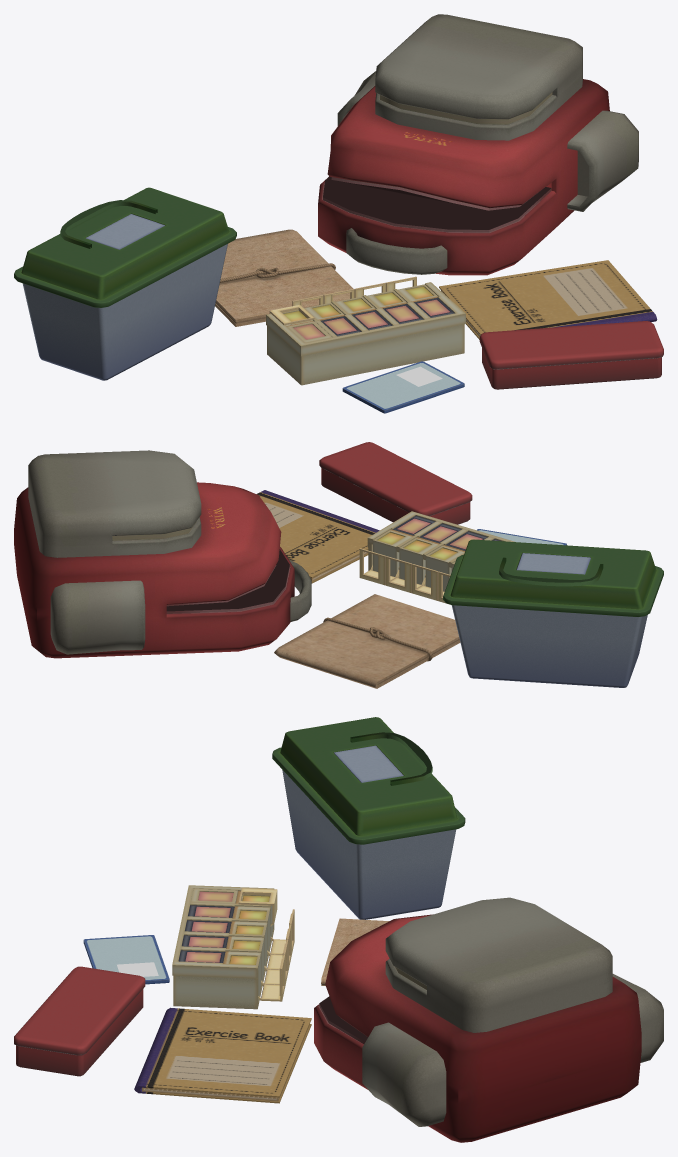
Rendered from UI grouping (1).fbx.
The picture shows the model from 3 angles, top to bottom: view 1: azimuth 30°, elevation 25°; view 2: azimuth 150°, elevation 25°; view 3: azimuth 270°, elevation 25°; orthographic projection. The views are drawn at different scales.
Parts seen in each view (by area): view 1: Bag_open, FishTank, Book_close, pencil_box_close, Map_close, base, frame, ID_card; view 2: Bag_open, FishTank, Map_close, pencil_box_close, Book_close, base (×3), cover (×3), frame, ID_card; view 3: Bag_open, FishTank, Book_close, pencil_box_close, base (×4), frame, ID_card, Map_close.
Part boxes in pixels (x1,y1,x2,y2): Bag_open: (318, 14, 638, 275); FishTank: (14, 187, 236, 380); Book_close: (439, 260, 657, 339); pencil_box_close: (479, 321, 663, 389); Map_close: (215, 229, 353, 326); base: (267, 324, 464, 385); frame: (266, 282, 465, 356); ID_card: (342, 361, 464, 413); Bag_open: (14, 450, 311, 658); FishTank: (443, 539, 663, 687); Map_close: (274, 594, 460, 688); pencil_box_close: (319, 442, 472, 524); Book_close: (256, 490, 379, 583); base (×3): (373, 515, 487, 591); cover (×3): (359, 548, 444, 600); frame: (367, 511, 514, 567); ID_card: (477, 529, 566, 545); Bag_open: (314, 897, 663, 1142); FishTank: (272, 717, 465, 919); Book_close: (134, 1007, 311, 1103); pencil_box_close: (14, 966, 145, 1076); base (×4): (173, 905, 274, 1009); frame: (172, 885, 274, 978); ID_card: (83, 935, 169, 984); Map_close: (321, 918, 388, 985).
Size of what is drawn, in the model's own units: 4310 by 923 by 3635.
